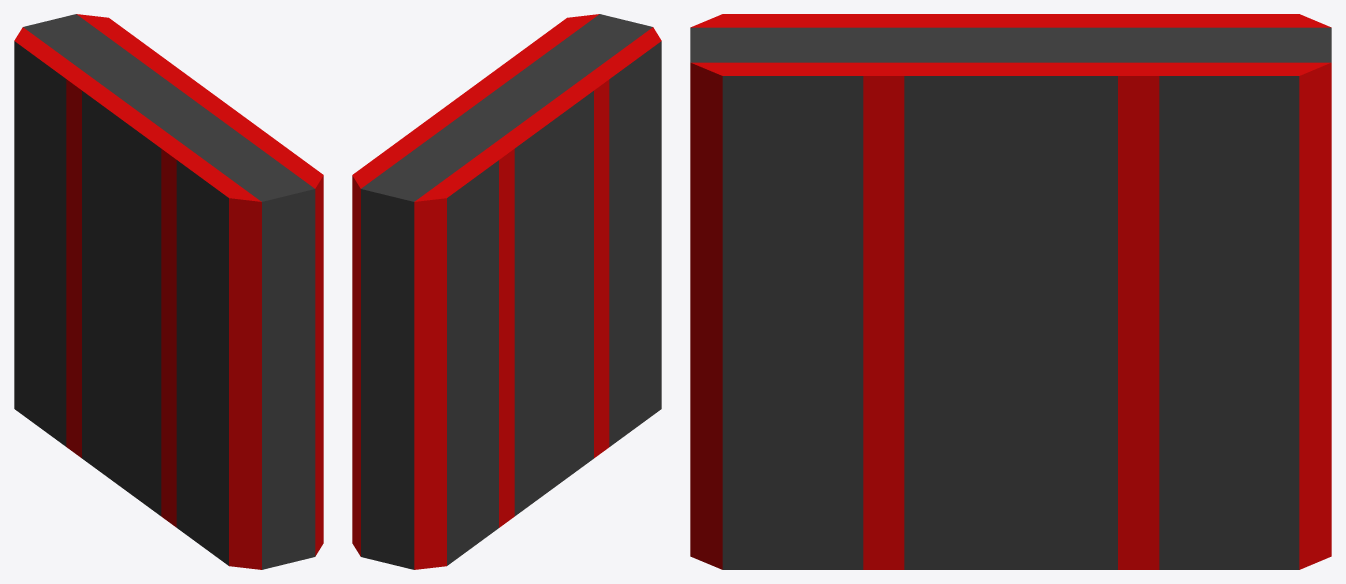
File: Wall.fbx
3 views of the same model, side by side, from view 1: azimuth 30°, elevation 25°; view 2: azimuth 150°, elevation 25°; view 3: azimuth 270°, elevation 25° (orthographic). The views are drawn at different scales.
Visible parts, largest first — view 1: polySurface11; view 2: polySurface11; view 3: polySurface11.
Boxes of the visible parts, <box> form: polySurface11: <box>14,14,323,569</box>; polySurface11: <box>352,14,661,569</box>; polySurface11: <box>690,14,1331,569</box>.
Bounding box in the file's own units: 1.37 × 5.1 × 6.01.
